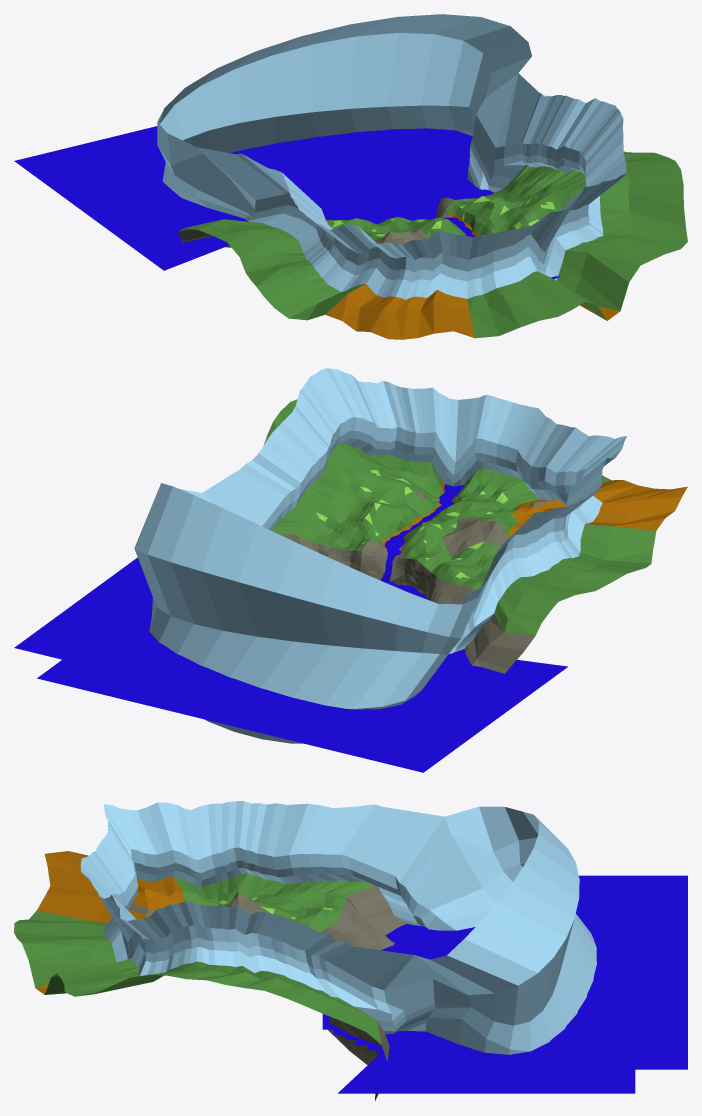
The model's file is maa2.glb.
3 renders of one model, top to bottom at view 1: azimuth 30°, elevation 25°; view 2: azimuth 150°, elevation 25°; view 3: azimuth 270°, elevation 25°, orthographic. The views are drawn at different scales.
Visible parts, largest first — view 1: Udu, maa, vesi, muru; view 2: Udu, maa, vesi, muru; view 3: Udu, vesi, maa.
Boxes of the visible parts, x1,y1,x2,y2 form: Udu: [157, 14, 626, 299]; maa: [178, 151, 687, 339]; vesi: [14, 126, 560, 278]; muru: [331, 184, 555, 237]; Udu: [134, 368, 626, 743]; maa: [258, 399, 687, 673]; vesi: [14, 484, 567, 772]; muru: [316, 470, 507, 578]; Udu: [80, 801, 596, 1054]; vesi: [322, 875, 687, 1093]; maa: [14, 851, 405, 1100].
Size of the model in its own units: 635 by 277 by 829.
